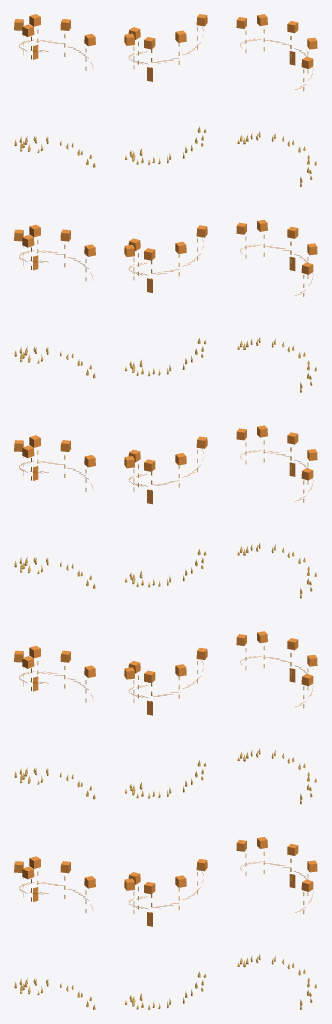
File: Circle6Glow.obj
3 views of the same model, side by side, from view 1: azimuth 30°, elevation 25°; view 2: azimuth 150°, elevation 25°; view 3: azimuth 330°, elevation 25° (orthographic). The views are drawn at different scales.
Parts seen in each view (by area): view 1: Circle6Glow; view 2: Circle6Glow; view 3: Circle6Glow.
Part boxes in pixels (x1,y1,x2,y2): Circle6Glow: [14, 14, 95, 1009]; Circle6Glow: [124, 14, 207, 1009]; Circle6Glow: [236, 14, 317, 1009].
Size of the model in its own units: 29.09 by 379 by 24.18.
1 material, 1 textured.
